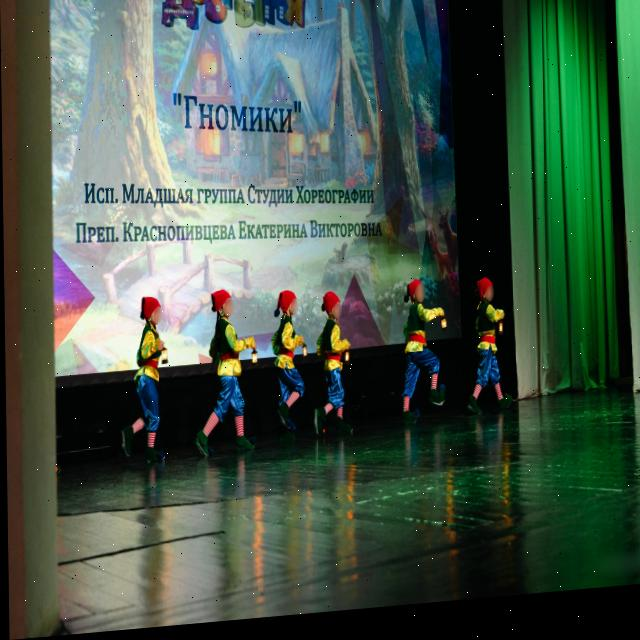Person: (192, 280, 255, 478), (116, 280, 177, 480), (392, 279, 449, 440), (265, 283, 311, 457), (464, 279, 511, 426), (310, 292, 352, 456)
